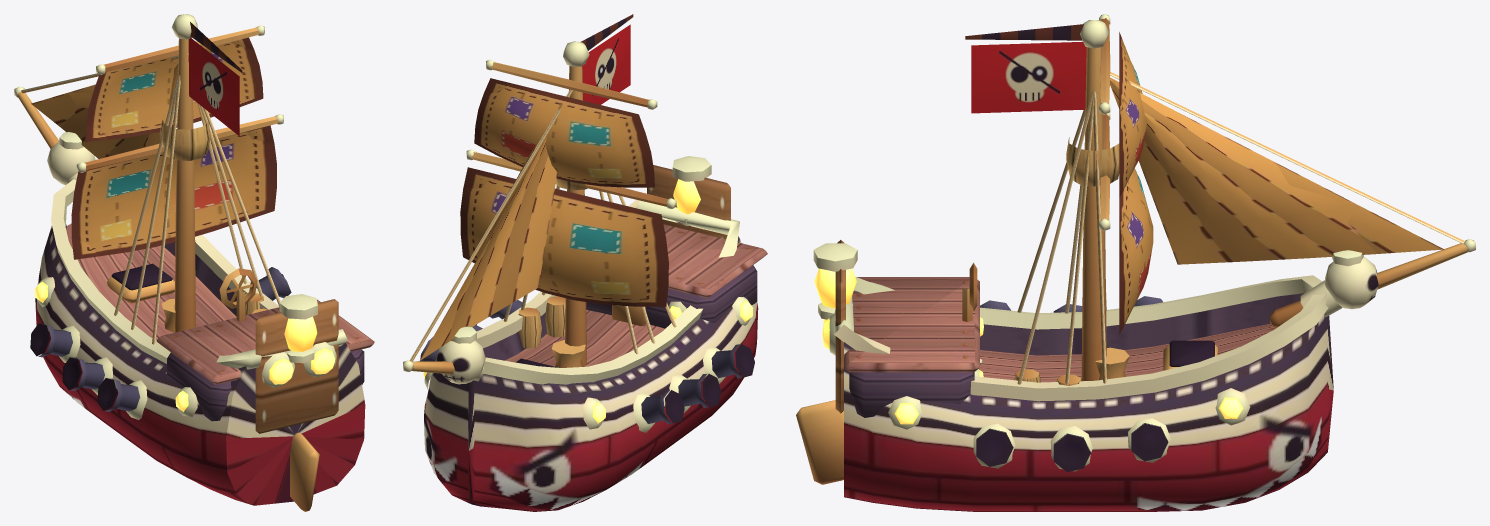
Rendered from brethren_sloop.glb.
The picture shows the model from 3 angles, left to right: view 1: azimuth 30°, elevation 25°; view 2: azimuth 150°, elevation 25°; view 3: azimuth 270°, elevation 25°; orthographic projection. The views are drawn at different scales.
Visible parts, largest first — view 1: Hull, Sail0_0, Rigging, Sail0_1, Guns0, Flag, Jib; view 2: Hull, Sail0_0, Sail0_1, Jib, Rigging, Guns0, Flag; view 3: Hull, Jib, Rigging, Flag, Guns0, Sail0_0, Sail0_1.
Boxes of the visible parts, x1=… form: Hull: x1=35, y1=132, x2=374, y2=511; Sail0_0: x1=71, y1=125, x2=276, y2=259; Rigging: x1=14, y1=14, x2=283, y2=344; Sail0_1: x1=85, y1=37, x2=263, y2=141; Guns0: x1=30, y1=267, x2=291, y2=411; Flag: x1=188, y1=22, x2=242, y2=135; Jib: x1=31, y1=60, x2=178, y2=158; Hull: x1=423, y1=156, x2=767, y2=511; Sail0_0: x1=460, y1=167, x2=668, y2=306; Sail0_1: x1=474, y1=78, x2=654, y2=187; Jib: x1=420, y1=97, x2=569, y2=360; Rigging: x1=403, y1=41, x2=676, y2=374; Guns0: x1=420, y1=300, x2=754, y2=424; Flag: x1=581, y1=14, x2=633, y2=104; Hull: x1=796, y1=240, x2=1378, y2=511; Jib: x1=1110, y1=77, x2=1444, y2=264; Rigging: x1=1017, y1=14, x2=1475, y2=385; Flag: x1=965, y1=24, x2=1086, y2=113; Guns0: x1=976, y1=296, x2=1168, y2=471; Sail0_0: x1=1119, y1=168, x2=1153, y2=334; Sail0_1: x1=1119, y1=32, x2=1147, y2=197.
Bounding box in the file's own units: 1.61 × 2.47 × 3.26.
Materials: 8 (8 with a texture image).
